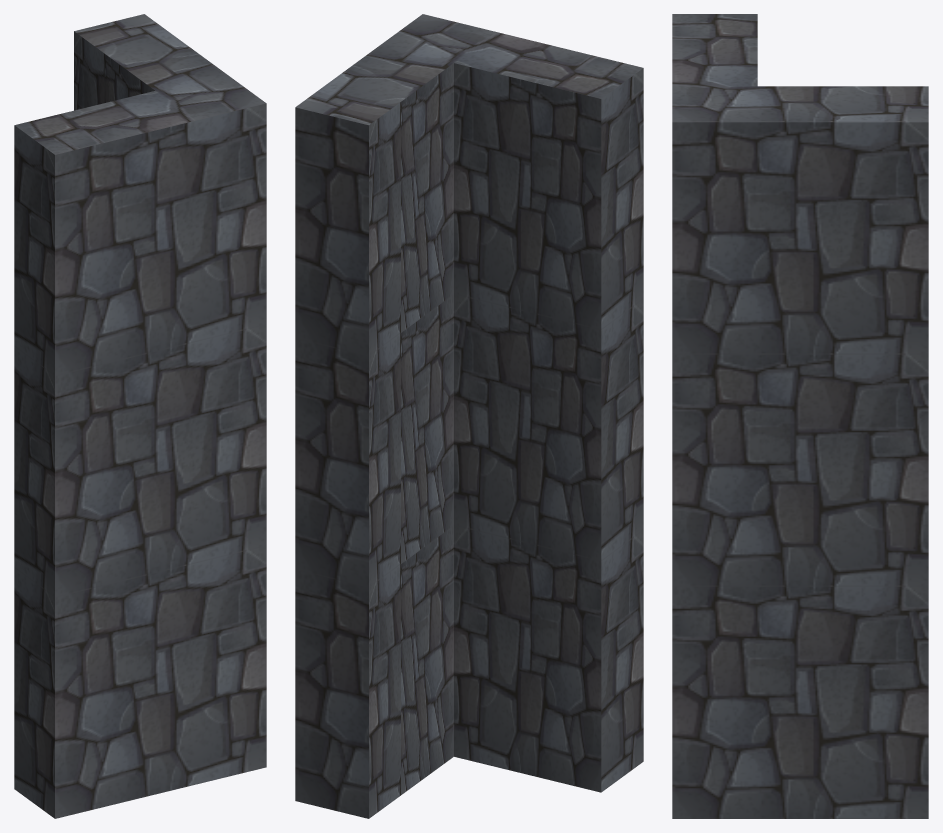
Rendered from wall_corner_normal.fbx.
The picture shows the model from 3 angles, left to right: view 1: azimuth 30°, elevation 25°; view 2: azimuth 150°, elevation 25°; view 3: azimuth 270°, elevation 25°; orthographic projection. The views are drawn at different scales.
Visible parts, largest first — view 1: Cube.030; view 2: Cube.030; view 3: Cube.030.
Part boxes in pixels (x1=…): Cube.030: x1=14, y1=14, x2=266, y2=818; Cube.030: x1=295, y1=14, x2=643, y2=818; Cube.030: x1=672, y1=14, x2=928, y2=818.
Bounding box in the file's own units: 2 × 2 × 6.
